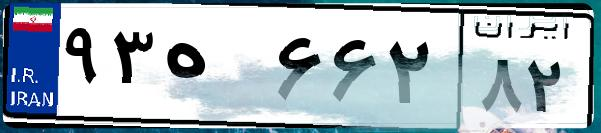2: (385, 28, 445, 110), (525, 38, 570, 115)
3: (110, 28, 158, 98)
6: (270, 28, 330, 110), (330, 28, 385, 110)
8: (475, 38, 525, 113)
9: (57, 26, 110, 100)
ه: (158, 20, 270, 120)
